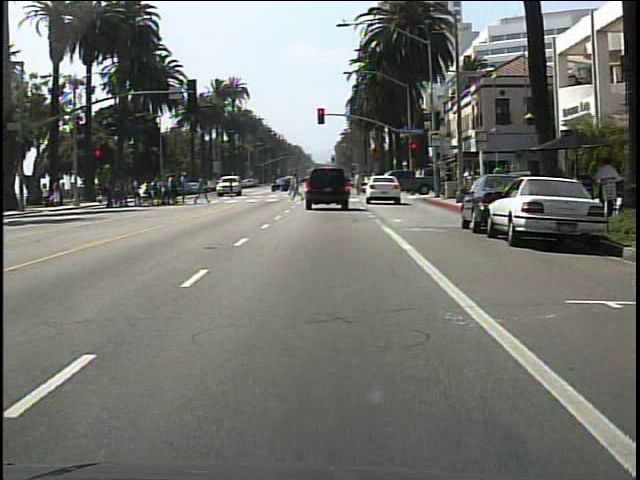person: (590, 153, 622, 221), (350, 165, 367, 202), (224, 175, 243, 204)
